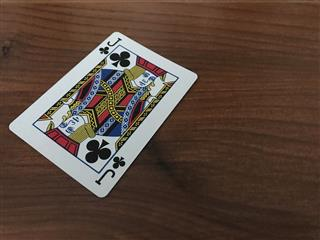JackOfClubs: (7, 30, 198, 197)
